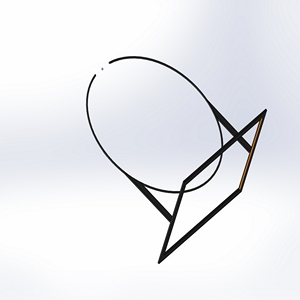circle: (84, 52, 268, 263)
